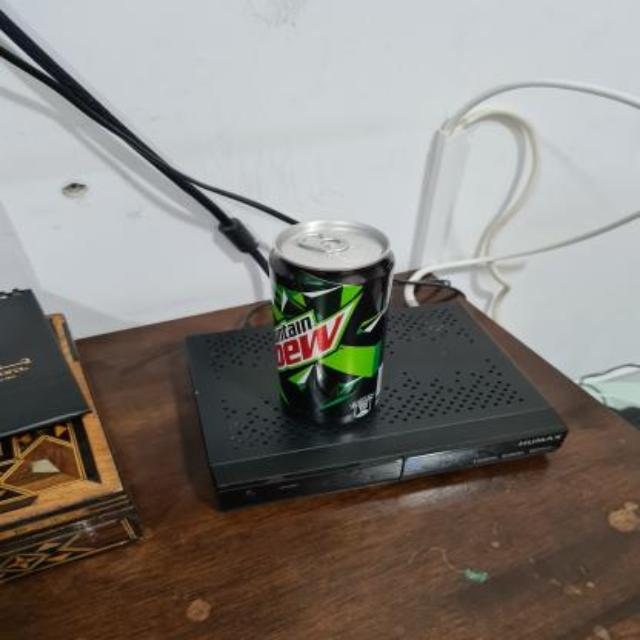metal: (269, 220, 394, 428)
